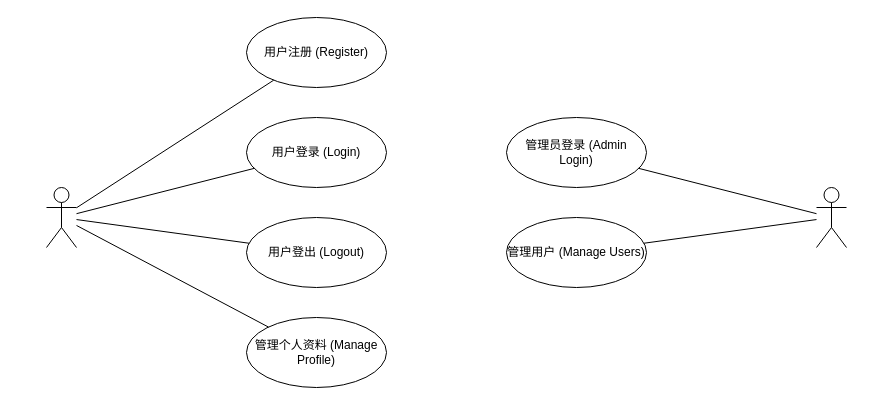
This 889x405 diagram has some shape labels left out. The shapes that lost their labels are listed below. From the top down, each one's centre as x and y in pixels, then its label:
At (x=61, y=217): "用户 (User/Host)".
At (x=831, y=217): "管理员 (Admin)".
